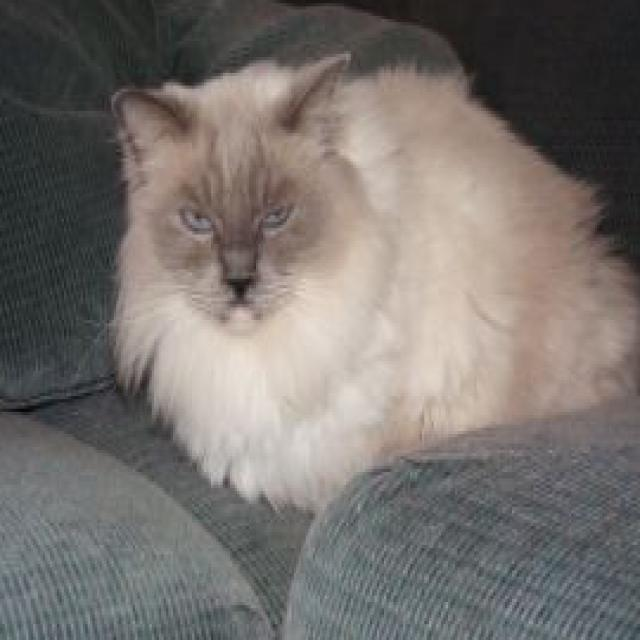Ragdoll: (104, 38, 640, 513)
